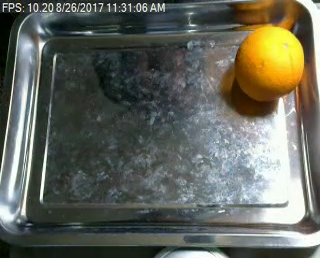Orange: (235, 27, 306, 102)
